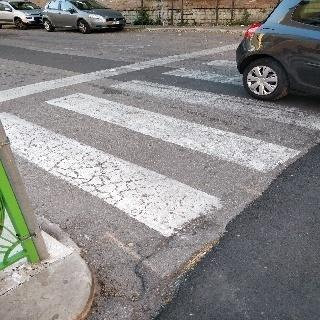road_crosswalk: (9, 82, 308, 251)
